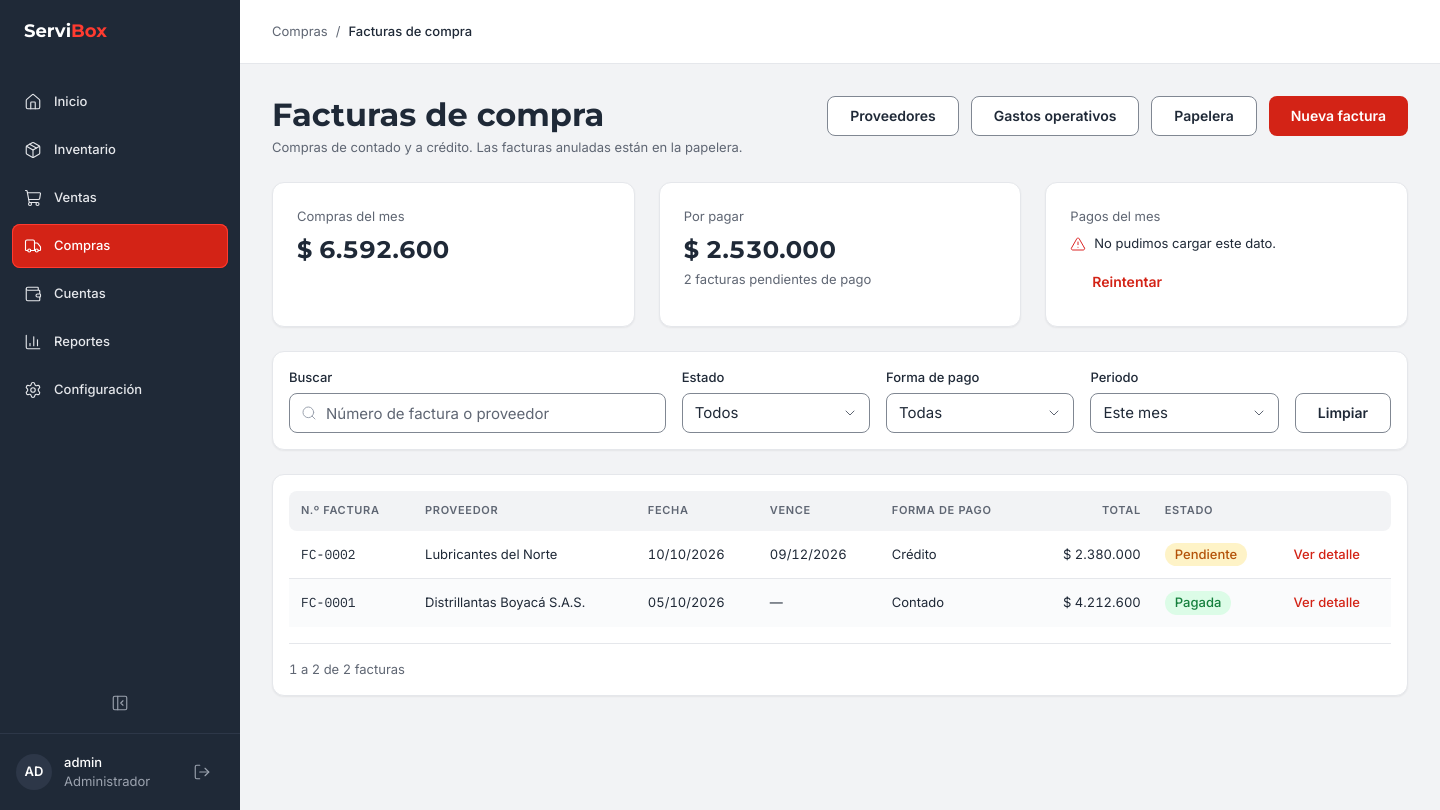
Test: facturas de compra › un indicador con error no afecta a los demas y se puede reintentar
Expected: the text "$ 6.592.600" is shown, x1=297 y1=235 x2=449 y2=264
Step 1. Click the button "Reintentar" → click(1127, 282), box x1=1070 y1=262 x2=1184 y2=302
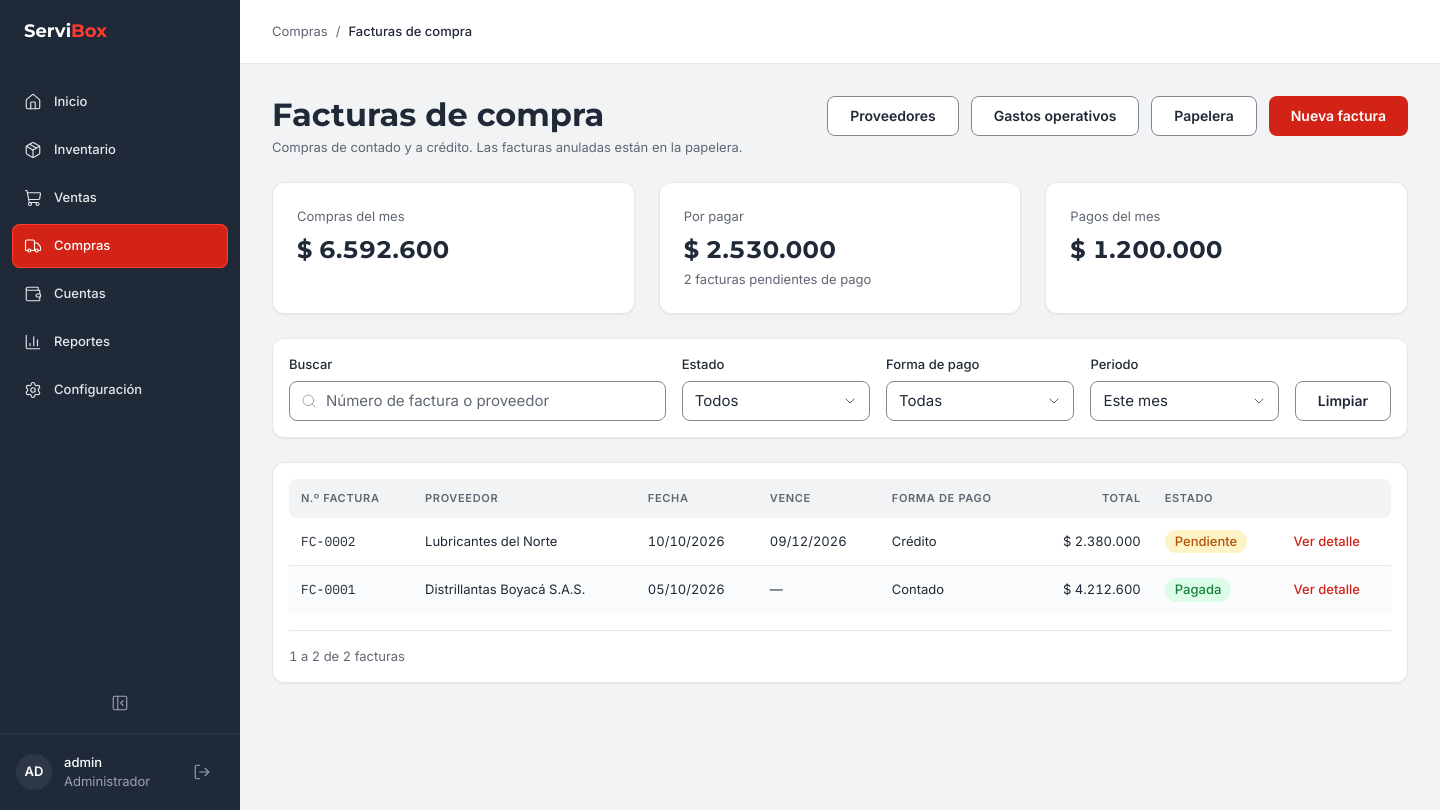
Result: the text "$ 1.200.000" is shown at x1=1070 y1=235 x2=1223 y2=264
